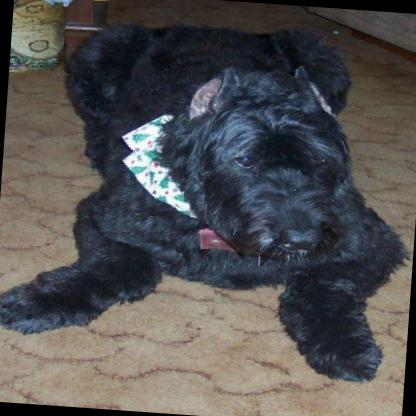Bouvier_des_Flandres: (0, 4, 416, 387)
